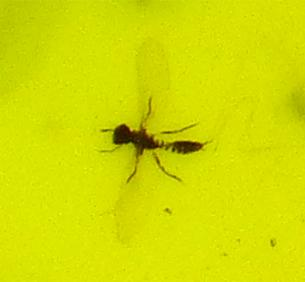Hymenoptera: (100, 100, 205, 182)
